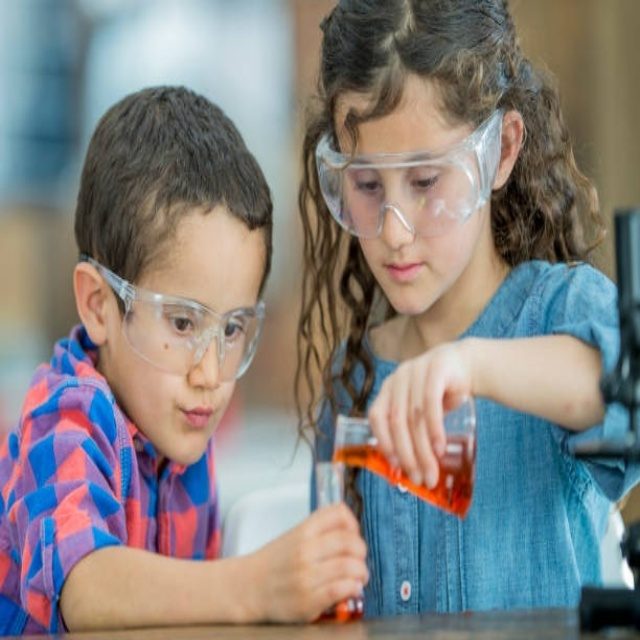Gafas: (315, 105, 508, 239), (82, 257, 268, 383)
Sin_guantes: (362, 340, 476, 491), (260, 498, 374, 625)
Sin_mascara: (374, 251, 442, 317), (165, 392, 216, 449)
